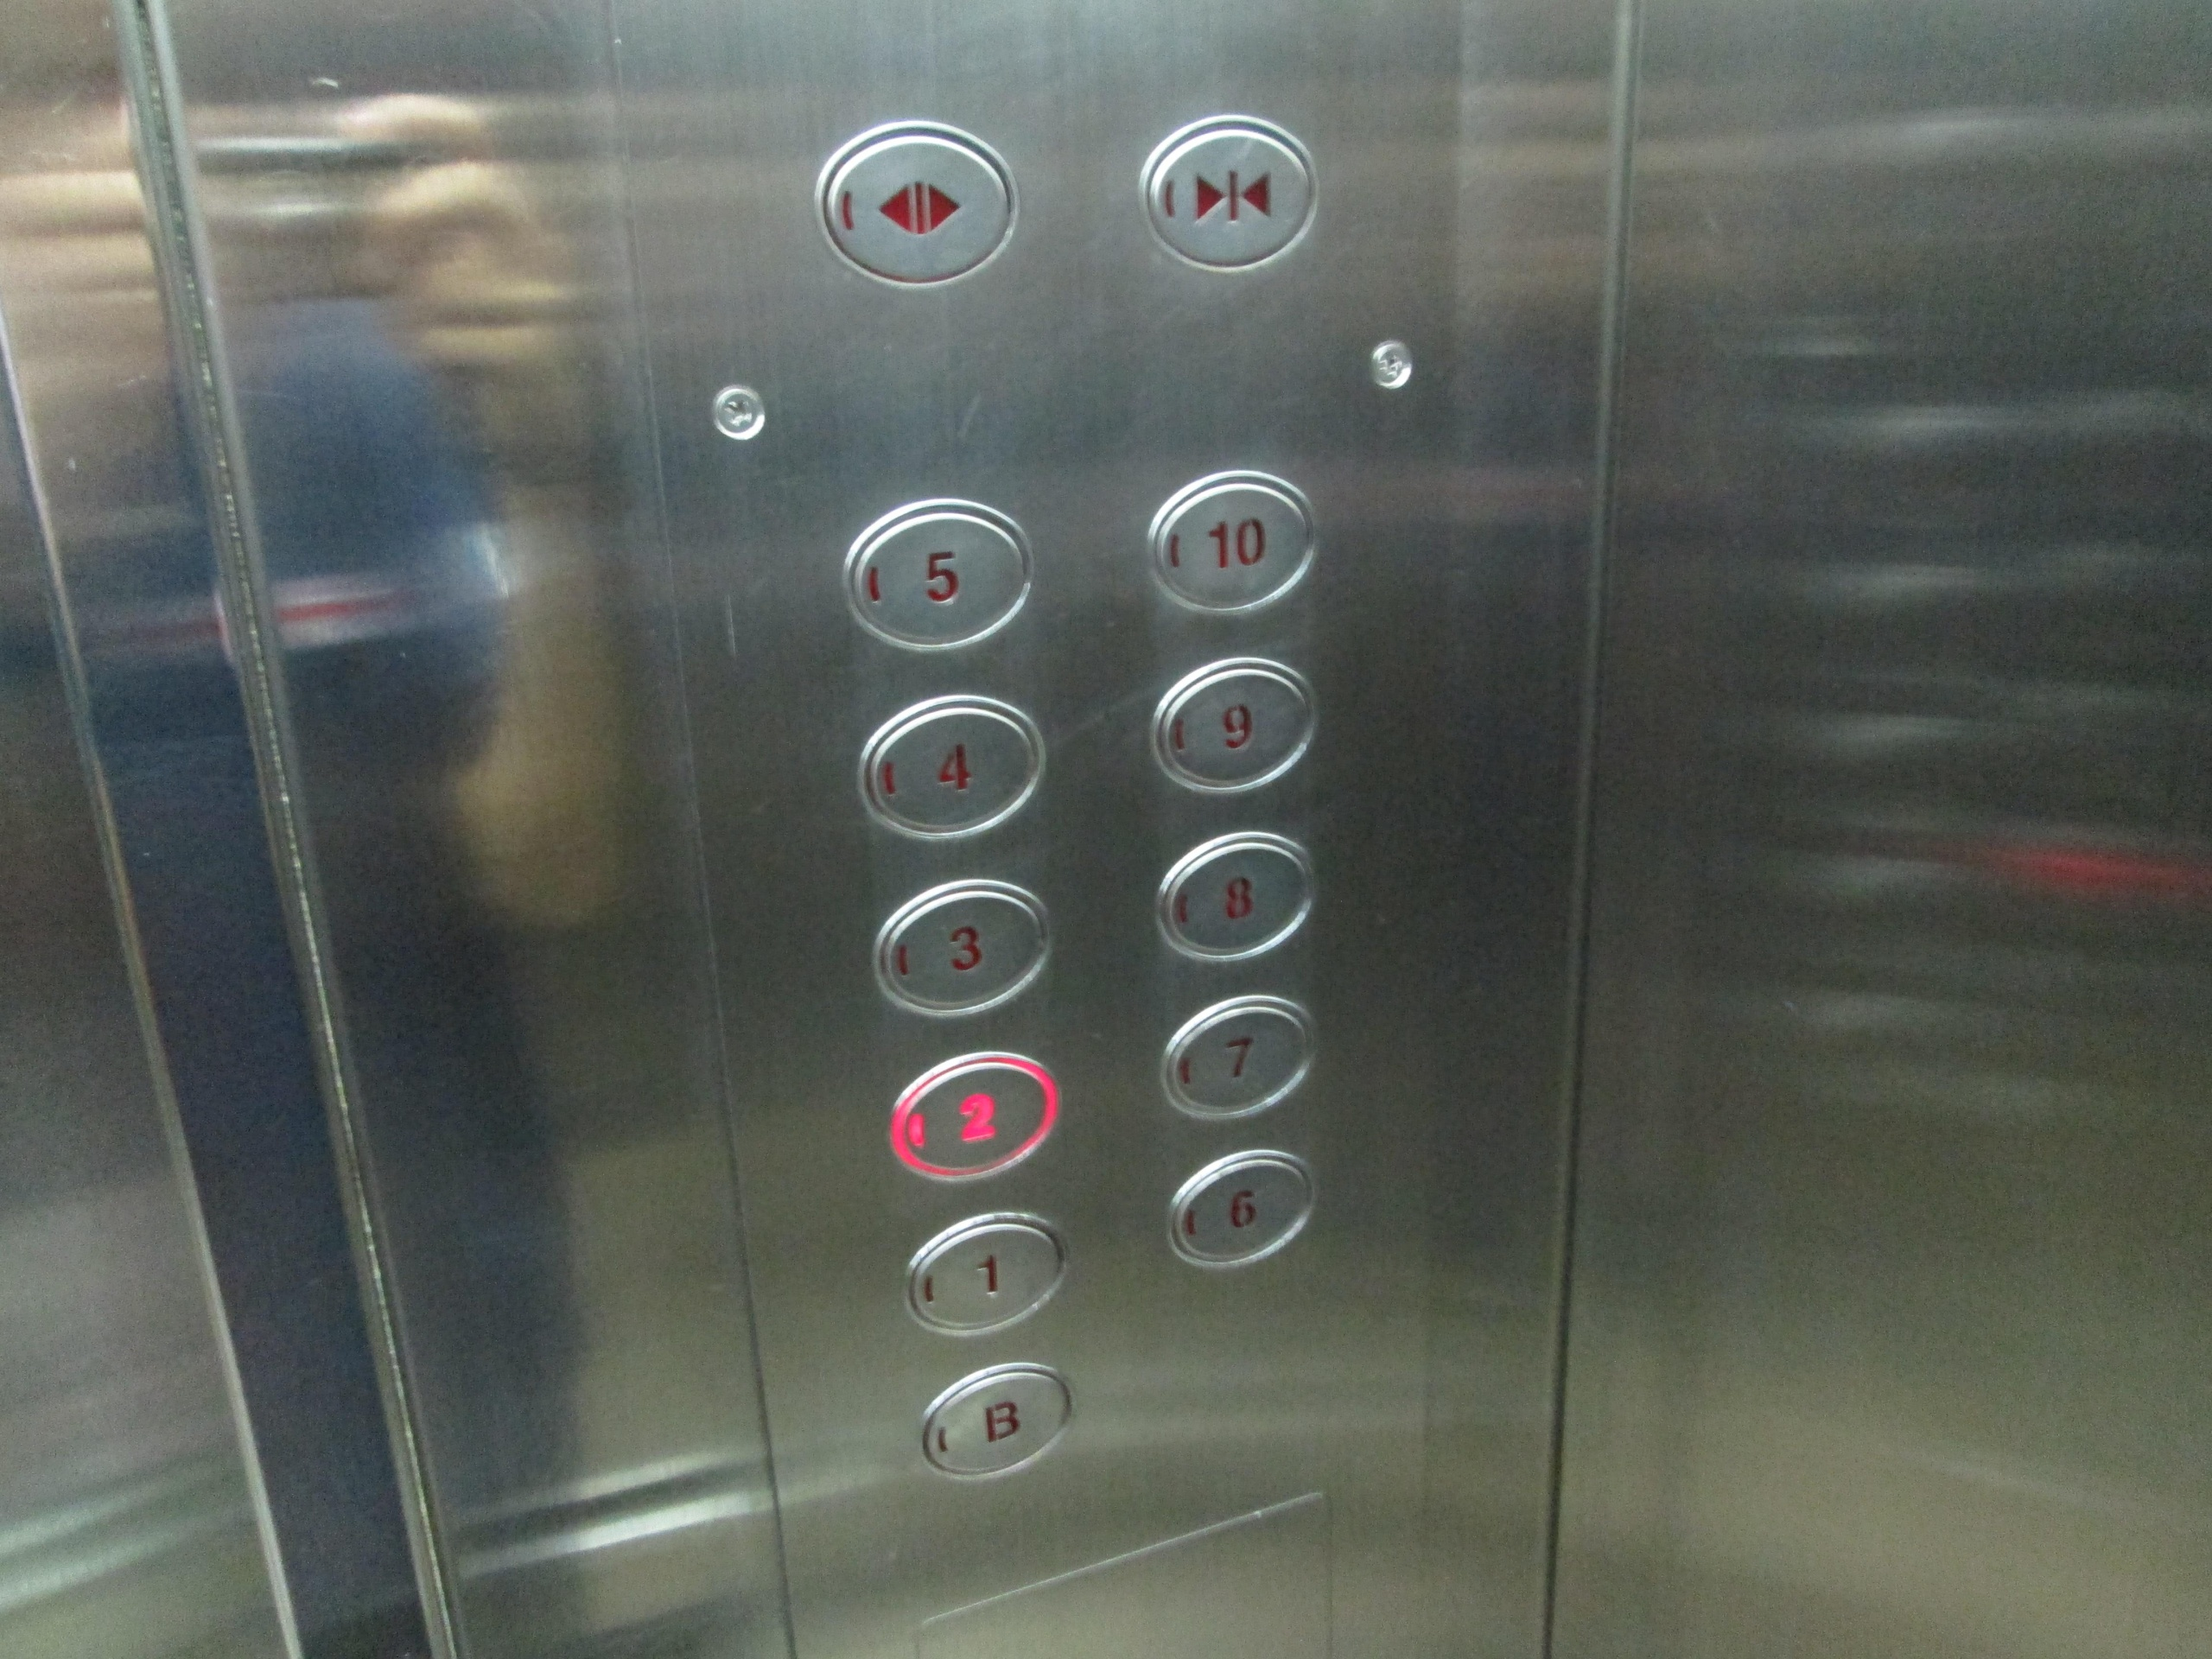1: (899, 1206, 1075, 1349)
10: (1139, 462, 1329, 624)
2: (881, 1046, 1064, 1192)
3: (866, 870, 1057, 1030)
4: (852, 685, 1052, 850)
5: (831, 493, 1040, 657)
6: (1157, 1141, 1324, 1279)
7: (1153, 988, 1320, 1136)
8: (1148, 824, 1320, 972)
9: (1146, 648, 1322, 802)
B: (911, 1358, 1083, 1490)
close: (1132, 110, 1320, 282)
open: (812, 117, 1021, 289)
